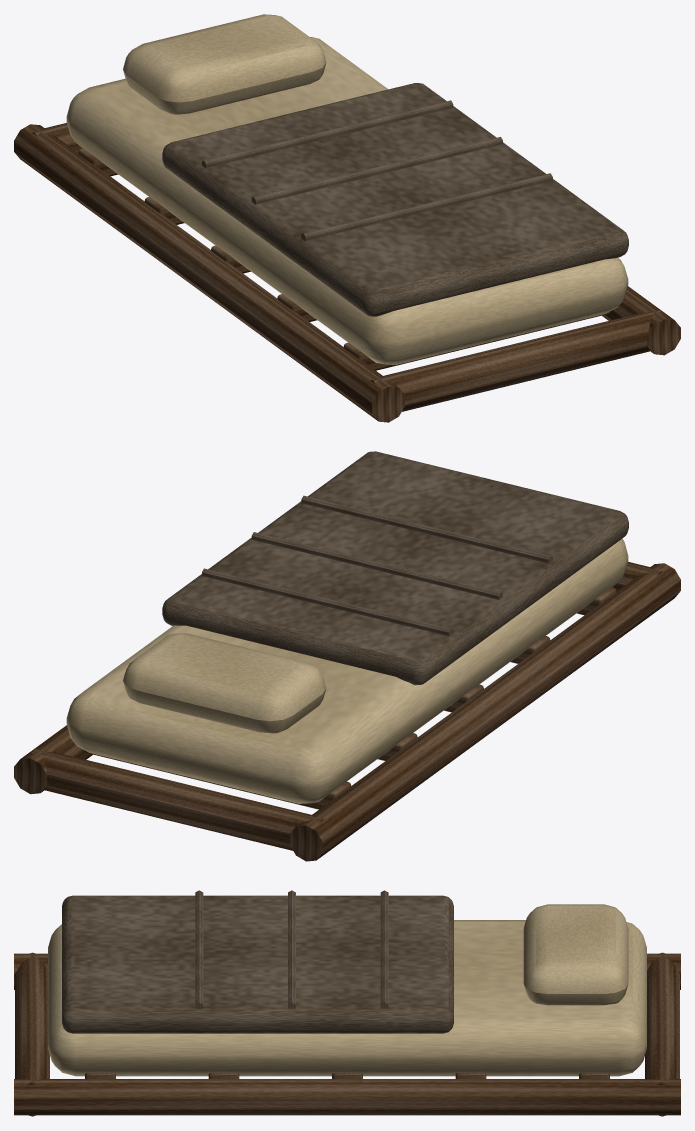
Rendered from camp_bed.glb.
3 views of the same model, one above another, from view 1: azimuth 30°, elevation 25°; view 2: azimuth 150°, elevation 25°; view 3: azimuth 270°, elevation 25° (orthographic). The views are drawn at different scales.
Parts seen in each view (by area): view 1: Wool blanket, Straw tick, Bed side rail; view 2: Wool blanket, Straw tick, Bed side rail; view 3: Wool blanket, Straw tick, Bed side rail.
Boxes of the visible parts, bbox=[...] form: Wool blanket: bbox=[162, 83, 628, 316]; Straw tick: bbox=[66, 14, 628, 364]; Bed side rail: bbox=[14, 123, 680, 422]; Wool blanket: bbox=[162, 451, 628, 685]; Straw tick: bbox=[66, 538, 628, 803]; Bed side rail: bbox=[14, 561, 680, 861]; Wool blanket: bbox=[62, 890, 453, 1033]; Straw tick: bbox=[48, 904, 646, 1076]; Bed side rail: bbox=[14, 952, 680, 1116].
Bounding box in the file's own units: 1.07 × 0.42 × 2.16.
3 materials, 3 textured.
